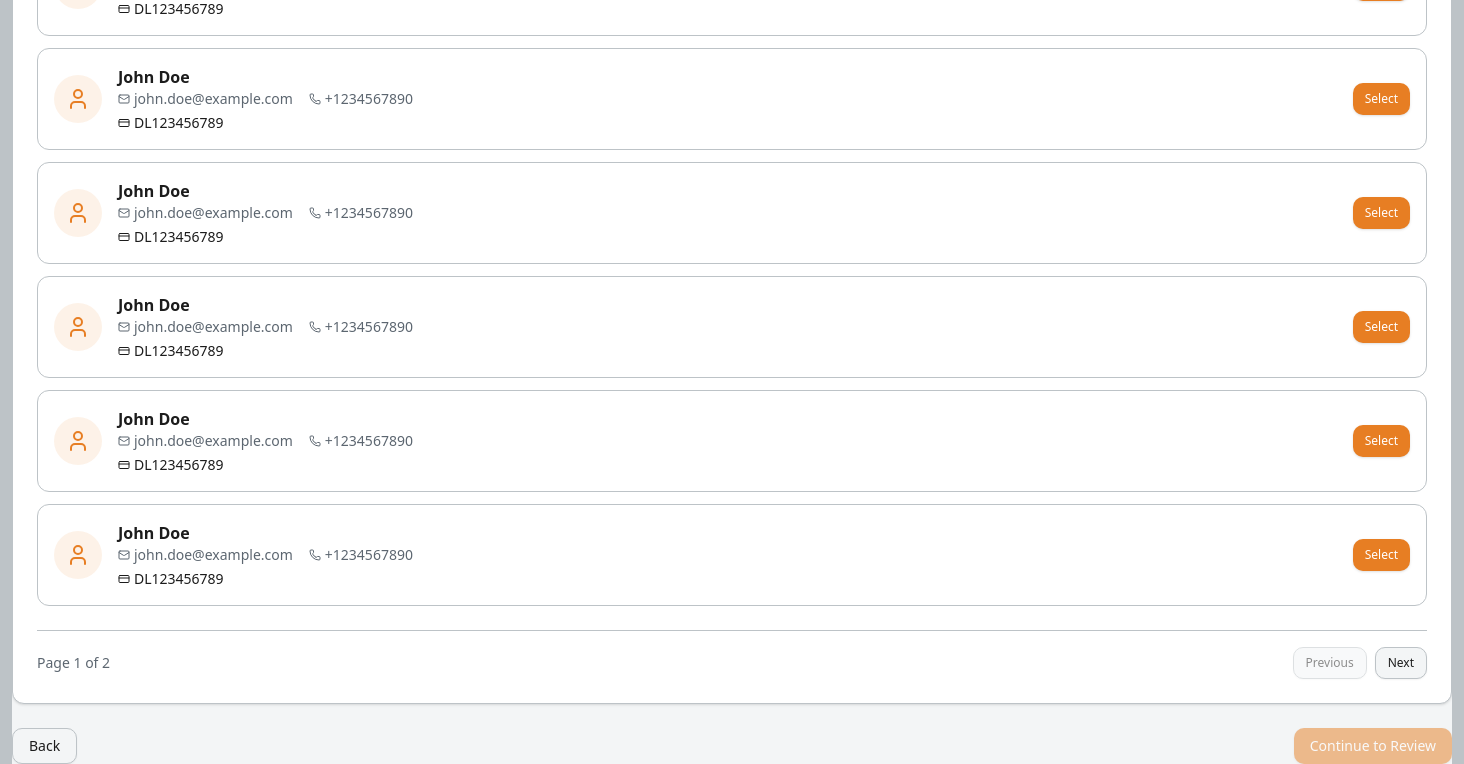
CustomerSelection › pagination › should handle pagination navigation
(page scrolled)
Expected: the text "Page 1 of 2" is shown, [37,653,110,673]
# Click next page
Click the button "Next" at (1401, 663), box [1375,647,1427,679]
(page scrolled)
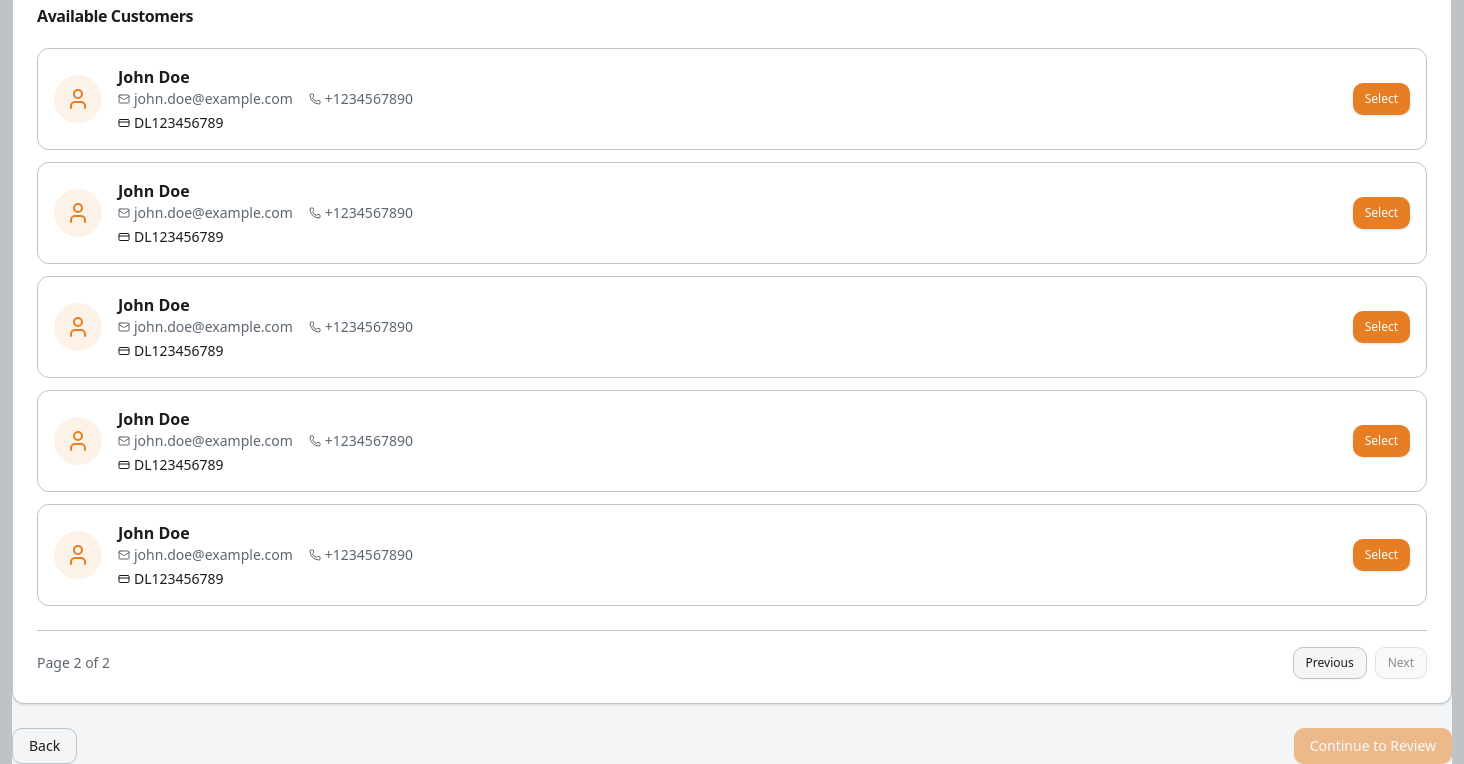
Now the text "Page 2 of 2" is shown, box [37,653,110,673]
Now the button "Previous" is enabled, box [1292,647,1367,679]
Now the button "Next" is disabled, box [1375,647,1427,679]
